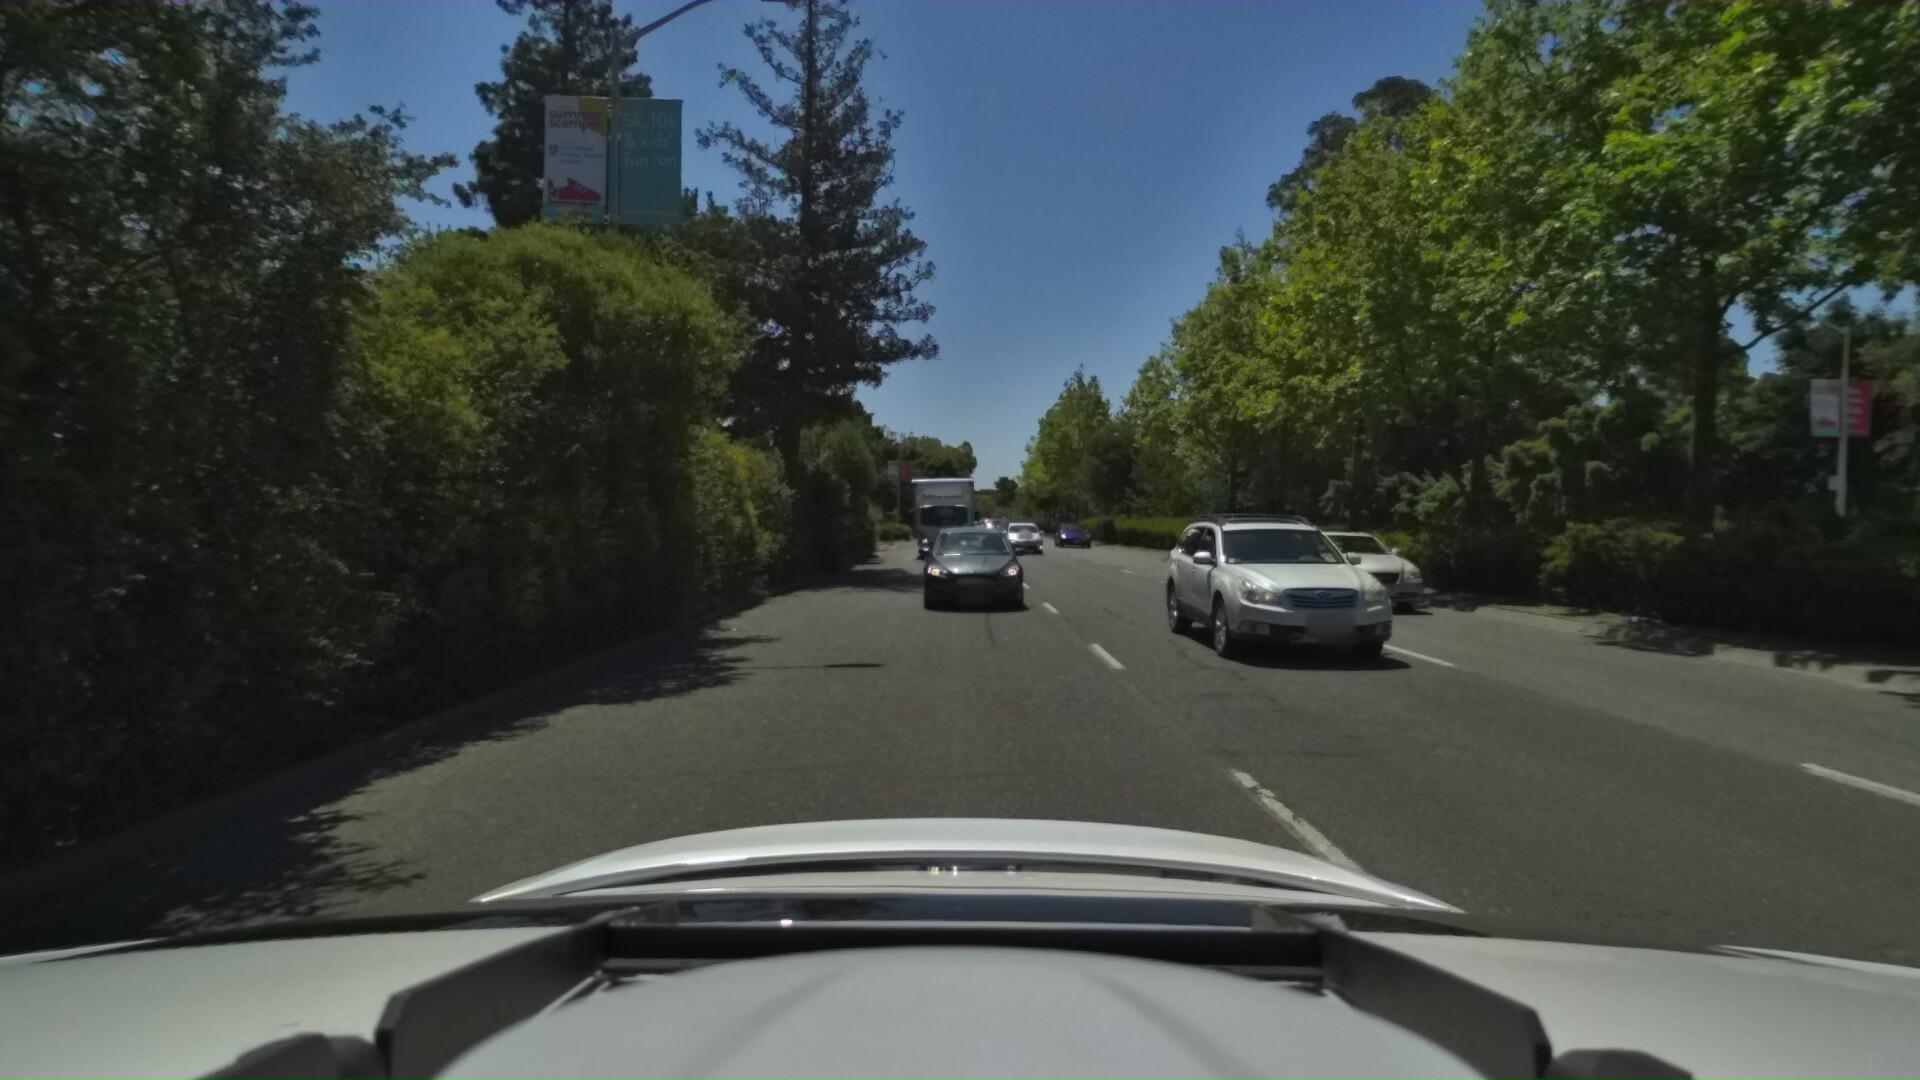car: (1133, 508, 1362, 658), (1244, 517, 1423, 605), (916, 521, 1025, 615), (1000, 517, 1046, 555), (1048, 518, 1088, 545)
truck: (903, 467, 978, 558)
